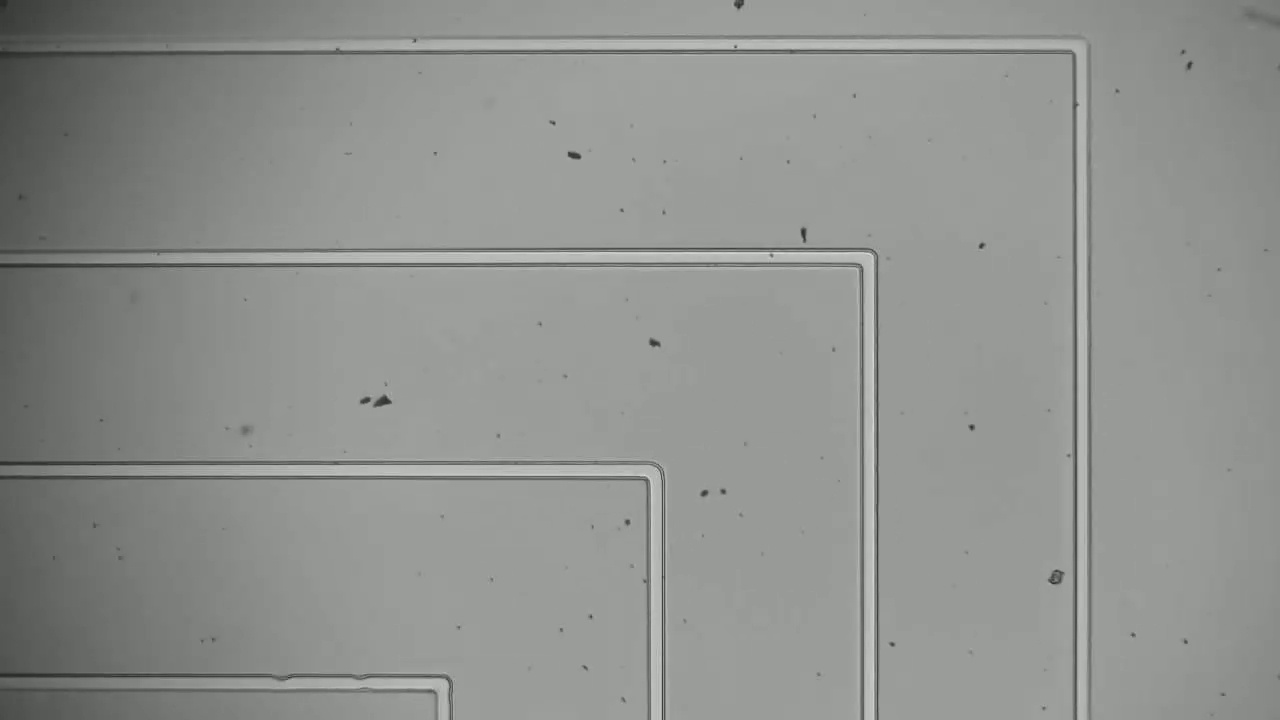edge_bite: (261, 663, 303, 698), (340, 670, 380, 699)
